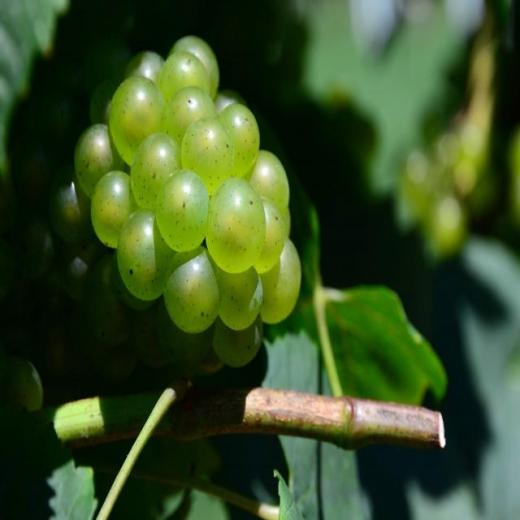Orange: (53, 37, 303, 368), (13, 360, 45, 409)
